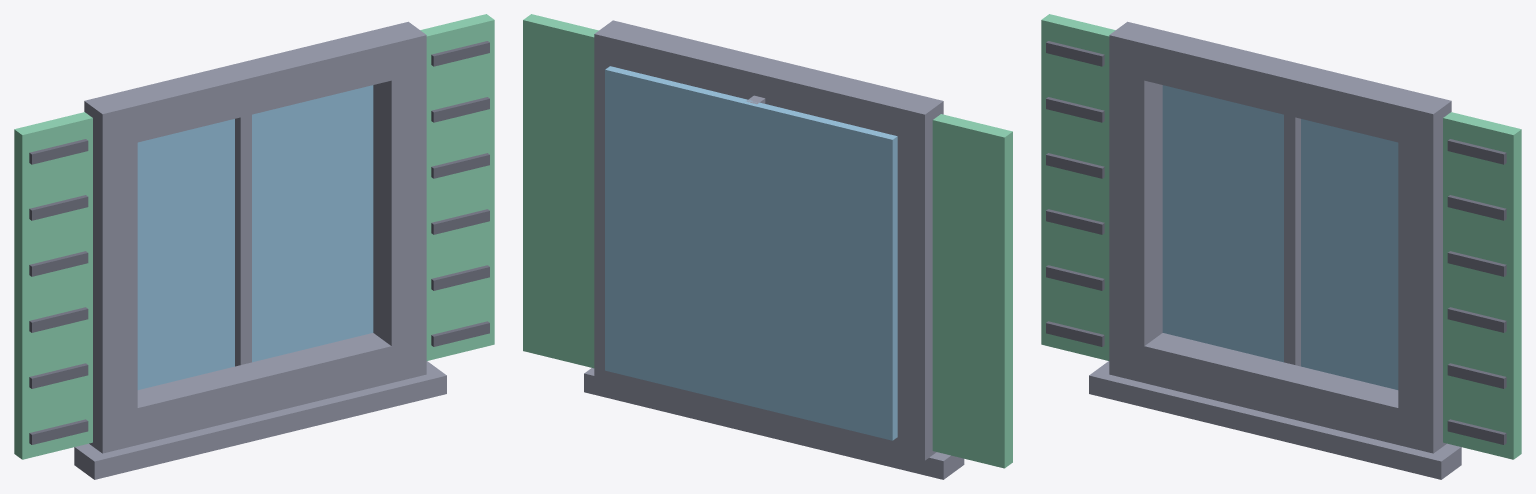
File: window-shutters.glb
3 renders of one model, left to right at view 1: azimuth 30°, elevation 25°; view 2: azimuth 150°, elevation 25°; view 3: azimuth 330°, elevation 25°, orthographic.
Visible parts, largest first — view 1: window-shutters; view 2: window-shutters; view 3: window-shutters.
Part boxes in pixels (box(x1,y1,x2,y2)): window-shutters: box(14, 14, 494, 479); window-shutters: box(523, 14, 1012, 479); window-shutters: box(1041, 14, 1521, 479).
Bounding box in the file's own units: 0.67 × 0.485 × 0.086.
Materials: 1 (1 with a texture image).
